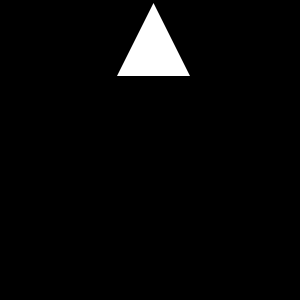triangle: (117, 3, 190, 76)
